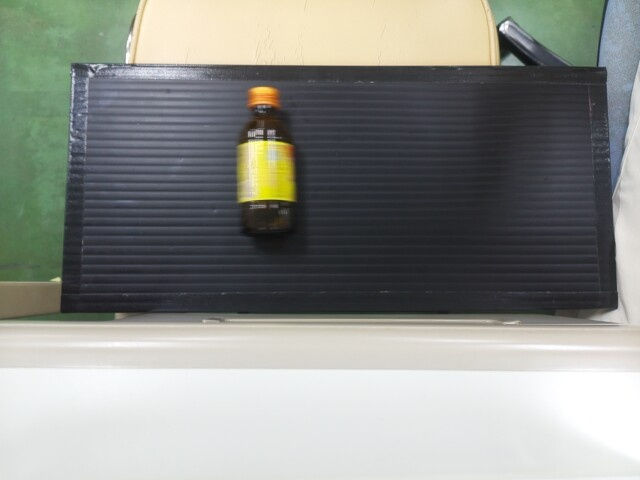glass_bottle: (236, 88, 296, 230)
